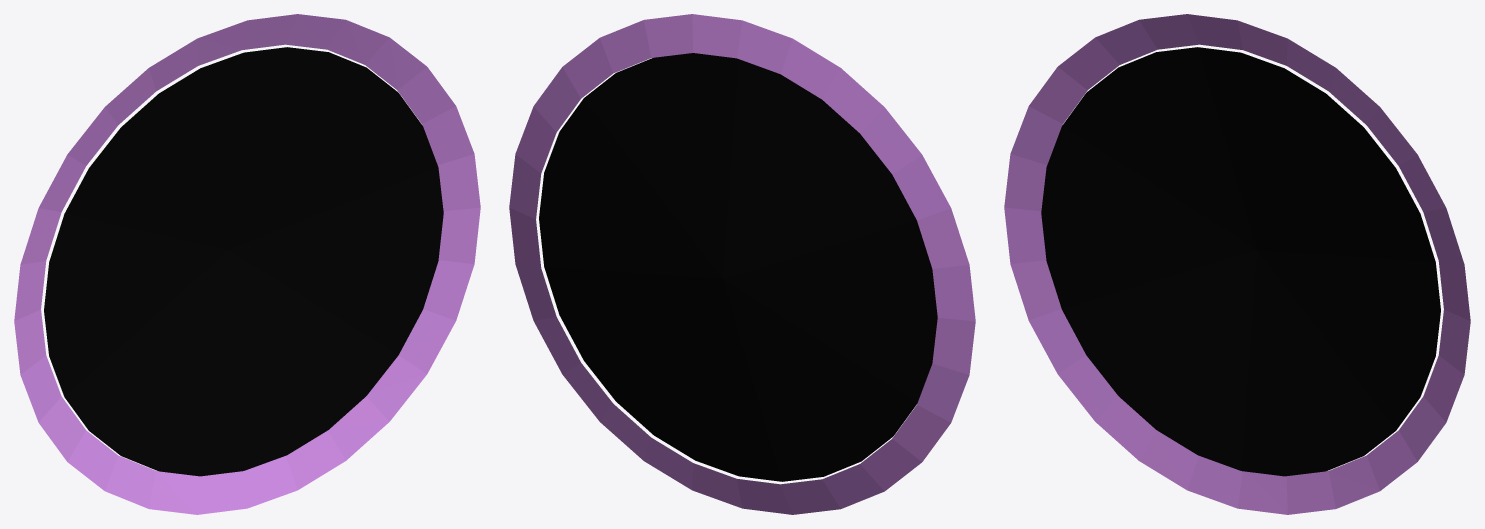
File: portal.obj
3 renders of one model, left to right at view 1: azimuth 30°, elevation 25°; view 2: azimuth 150°, elevation 25°; view 3: azimuth 330°, elevation 25°, orthographic.
Parts seen in each view (by area): view 1: portal_mascara, portal_borde; view 2: portal_mascara, portal_borde; view 3: portal_mascara, portal_borde.
Boxes of the visible parts, x1,y1,x2,y2 form: portal_mascara: (44,47,443,476); portal_borde: (14,14,480,514); portal_mascara: (539,53,937,481); portal_borde: (509,14,975,514); portal_mascara: (1041,47,1440,476); portal_borde: (1004,14,1470,514).
Bounding box in the file's own units: 0.663 × 0.663 × 0.0476.
